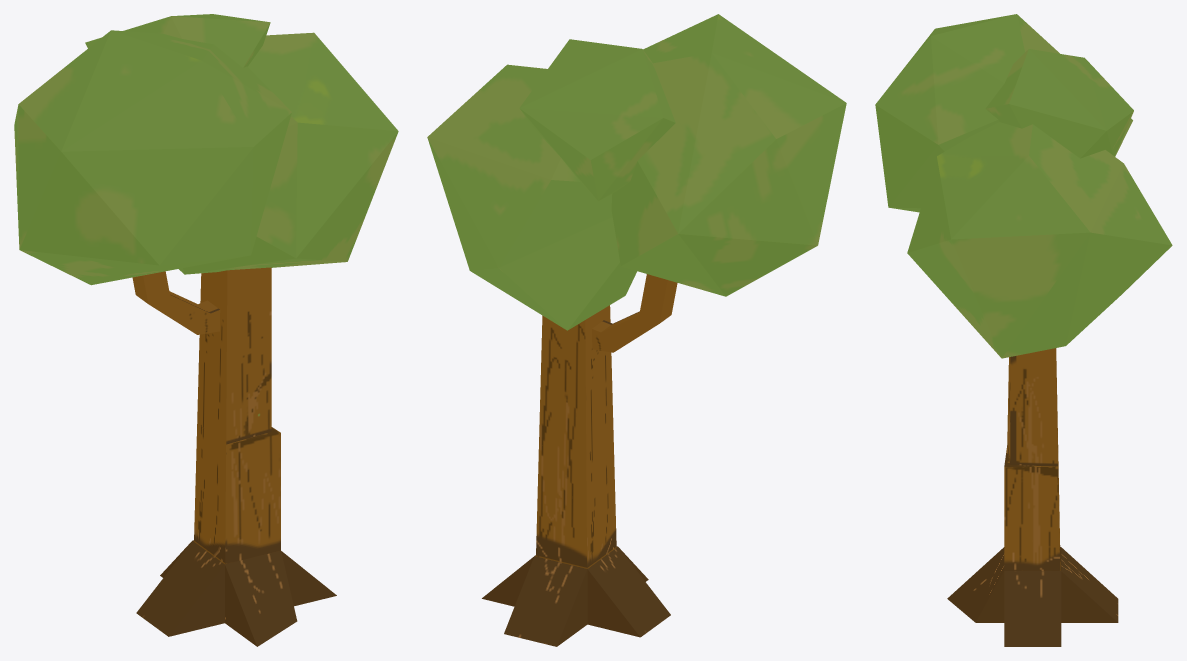
File: tree_chesburg_2.glb
3 views of the same model, side by side, from view 1: azimuth 30°, elevation 25°; view 2: azimuth 150°, elevation 25°; view 3: azimuth 270°, elevation 25° (orthographic). The views are drawn at different scales.
Parts seen in each view (by area): view 1: leaves.001; view 2: leaves.001; view 3: leaves.001.
Boxes of the visible parts, x1,y1,x2,y2 form: leaves.001: (14,14,398,646); leaves.001: (427,14,846,646); leaves.001: (875,14,1172,646).
Size of the model in its own units: 6.43 by 10.42 by 5.21.
